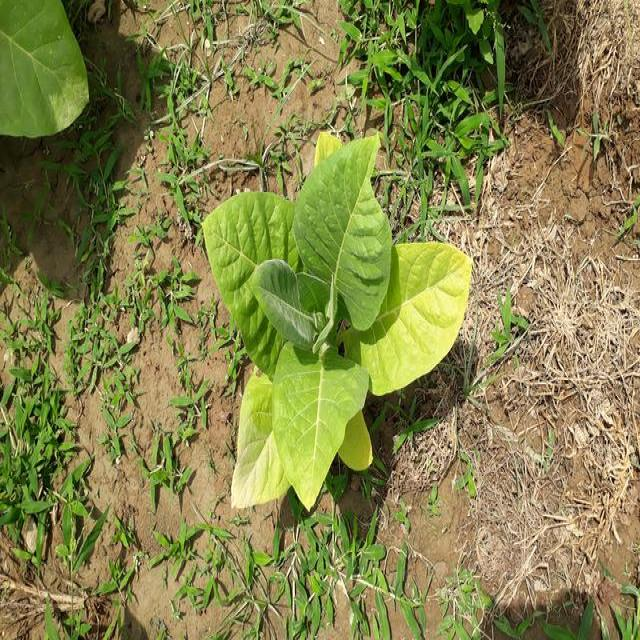crop: (220, 153, 468, 492), (0, 0, 92, 138)
